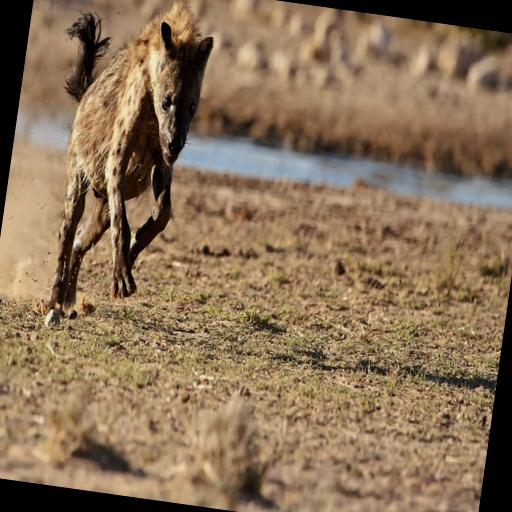hyenas: (0, 0, 273, 391)
